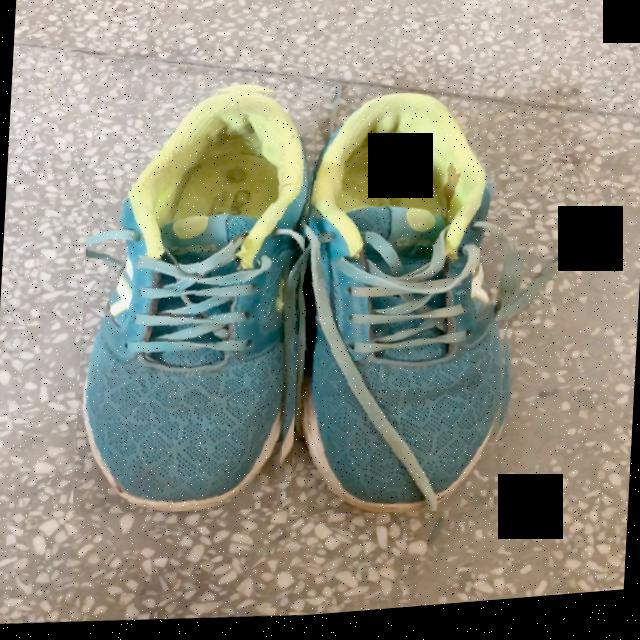shoe: (86, 94, 310, 515), (304, 101, 506, 519)
